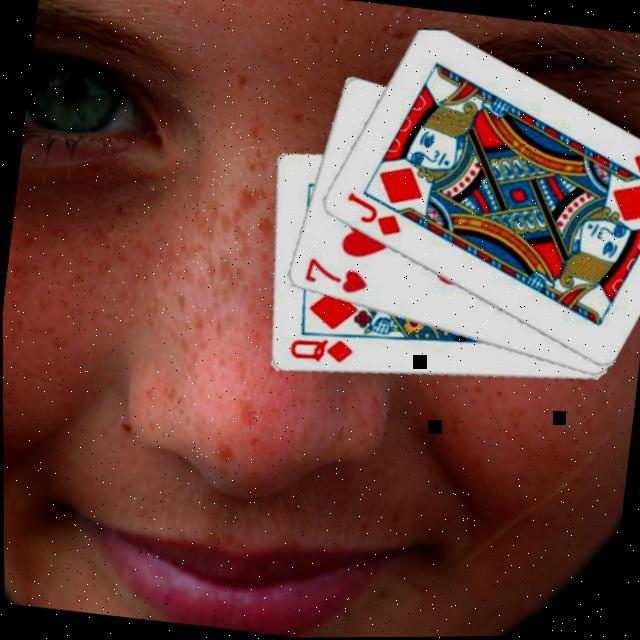7H: (296, 252, 369, 296)
JD: (337, 186, 404, 239), (622, 145, 640, 194)
QD: (282, 329, 353, 367)
